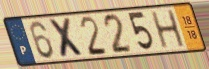2: (79, 15, 109, 58), (103, 13, 134, 54)
5: (127, 10, 155, 53)
6: (29, 18, 56, 61)
H: (149, 8, 187, 50)
X: (46, 17, 88, 60)
